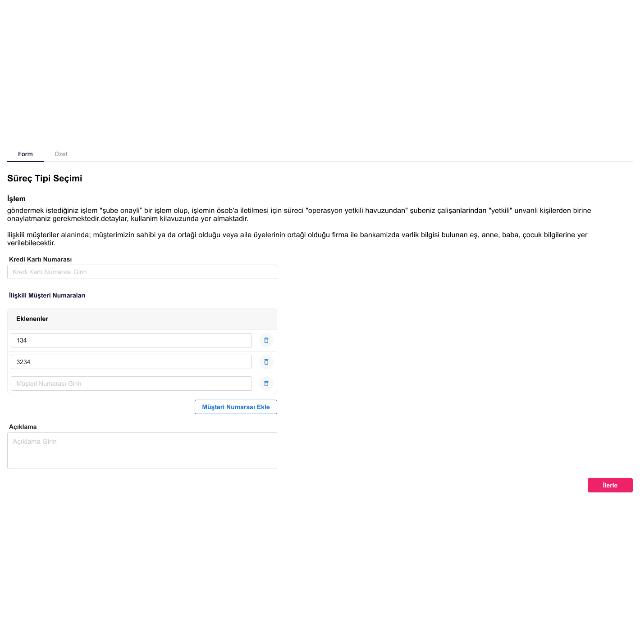QLabel: (6, 230, 588, 247), (6, 206, 592, 222), (8, 290, 86, 298), (7, 174, 83, 182), (202, 404, 270, 411), (9, 256, 73, 262), (9, 422, 37, 430), (6, 192, 26, 202), (16, 150, 34, 156), (602, 482, 618, 488), (54, 150, 68, 156)
VBtn: (194, 398, 278, 414), (587, 476, 633, 492)
VDataTable: (6, 306, 278, 394)
VTabs: (1, 140, 640, 497)
VTextField: (6, 263, 278, 279)
VTextarea: (6, 431, 278, 469)
